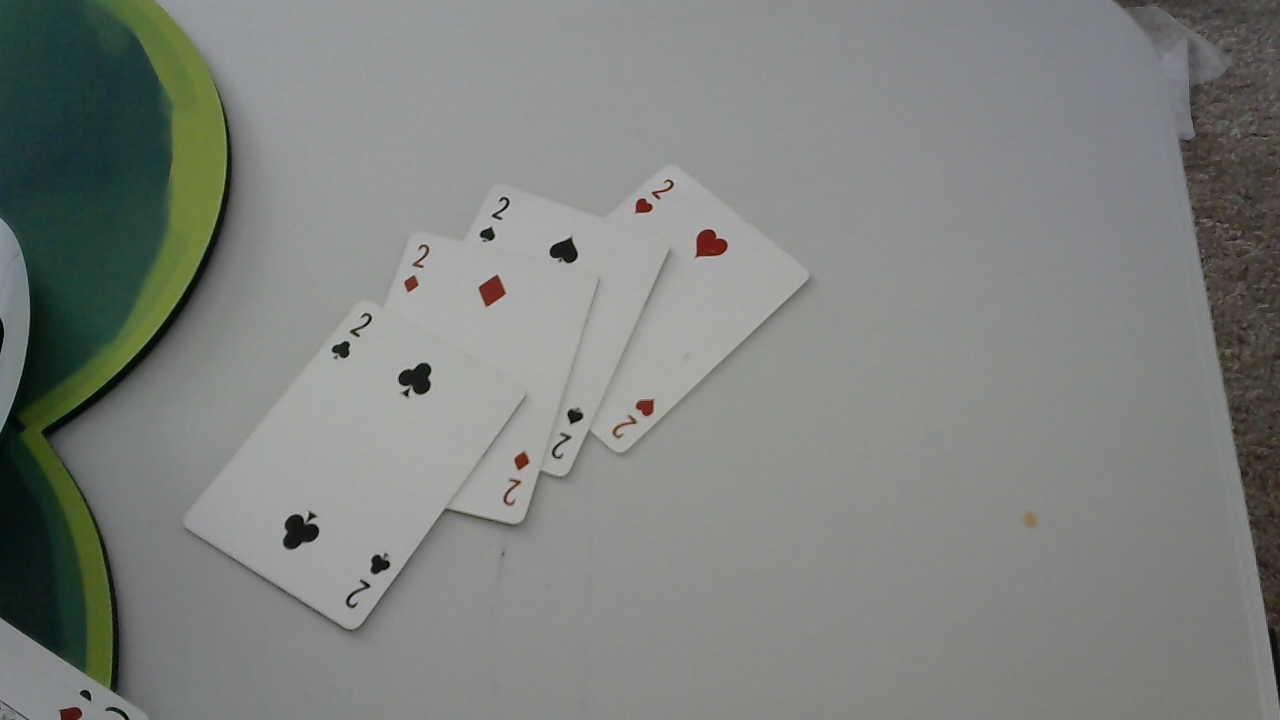2C: (342, 550, 400, 614), (327, 307, 374, 366)
2D: (609, 393, 661, 440), (500, 450, 532, 512), (403, 238, 436, 294)
2H: (631, 174, 679, 219)
2S: (547, 404, 588, 462), (477, 191, 513, 246)
